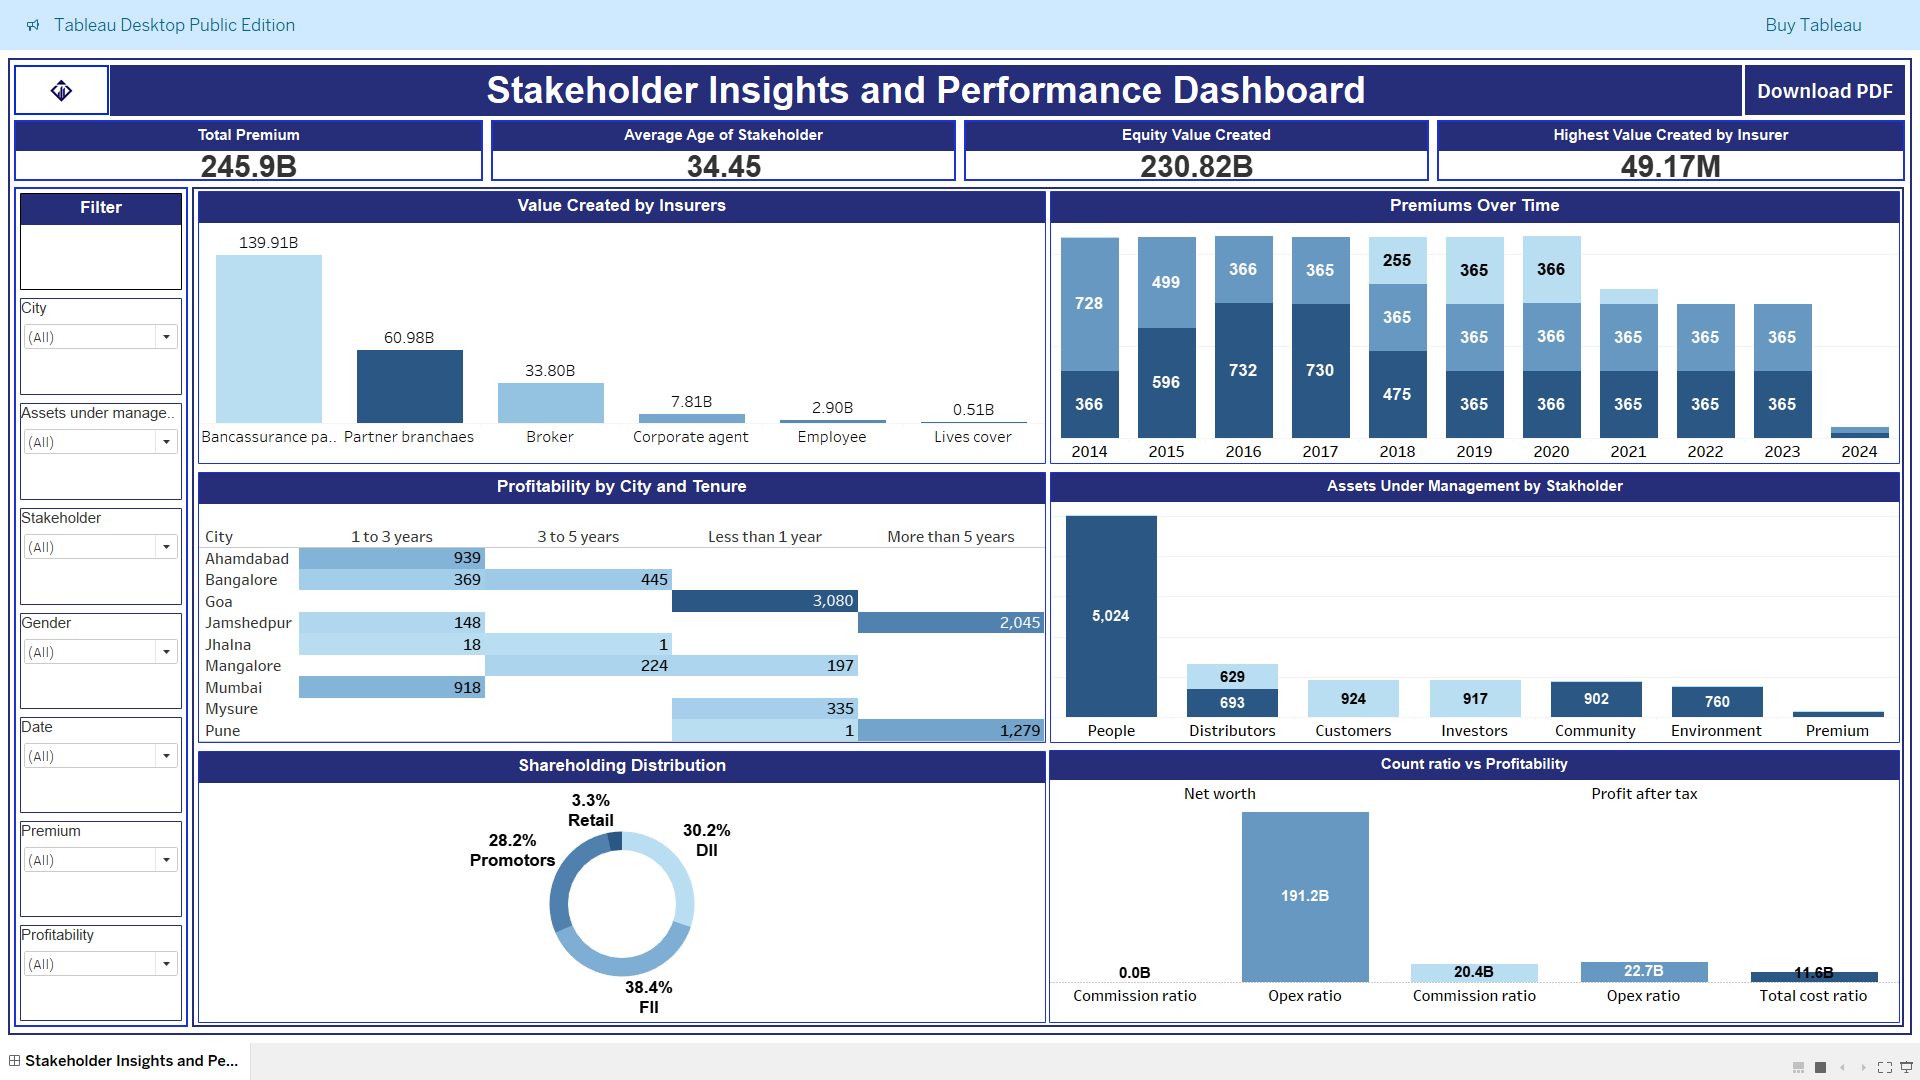

Layout of this report page (visuals, bound fields, positions):
{"tool":"tableau","page":{"name":"Stakeholder Insights and Performance Dashboard","canvas":[1000,1000],"units":"permille","ordinal":0},"visuals":[{"type":"image","param":"C:/Users/Dell/Downloads/WhatsApp Image 2025-06-24 at 23.31.29_39250a55.jpg","box":[8.4,17.5,57.9,64.9]},{"type":"text","box":[66.4,17.5,826.2,64.9]},{"type":"dashboard-object","box":[892.6,17.5,99,64.9]},{"type":"worksheet","title":"Total Premium","mark":"Automatic","box":[8.4,82.4,246.2,86.1]},{"type":"worksheet","title":"Average Age of Stakeholder","mark":"Automatic","box":[254.7,82.4,245.6,86.1]},{"type":"worksheet","title":"Equity Value Created","mark":"Automatic","box":[500.3,82.4,245.6,86.1]},{"type":"worksheet","title":"Highest Value Created by Insurer","mark":"Automatic","box":[745.9,82.4,245.6,86.1]},{"type":"worksheet","title":"Filters","mark":"Automatic","box":[9.7,173.5,102.6,101.1]},{"type":"worksheet","title":"Value Created by Insurers","mark":"Automatic","rows":["Value Created"],"cols":["Insurer"],"box":[118.3,176,435.1,263.4]},{"type":"worksheet","title":"Premiums Over Time","mark":"Bar","rows":["Premium 1"],"cols":["Date"],"box":[553.4,176,434.5,263.4]},{"type":"filter","title":"Filters","param":"[federated.0gvcv7g16l1nyy1d18fpl1i7io69].[none:City:nk]","box":[9.7,274.7,102.6,101.1]},{"type":"filter","title":"Filters","param":"[federated.0gvcv7g16l1nyy1d18fpl1i7io69].[none:Assets under management:nk]","box":[9.7,375.8,102.6,101.1]},{"type":"worksheet","title":"Profitability by City and Tenure","mark":"Square","rows":["City"],"cols":["Policy tenuer"],"box":[118.3,444.4,435.1,263.4]},{"type":"worksheet","title":"Assets Under Management by Stakholder","mark":"Automatic","rows":["Assets under management"],"cols":["Stakeholder"],"box":[553.4,444.4,434.5,263.4]},{"type":"filter","title":"Filters","param":"[federated.0gvcv7g16l1nyy1d18fpl1i7io69].[none:Stakeholder:nk]","box":[9.7,476.9,102.6,101.1]},{"type":"filter","title":"Filters","param":"[federated.0gvcv7g16l1nyy1d18fpl1i7io69].[none:Gender:nk]","box":[9.7,578,102.6,99.9]},{"type":"filter","title":"Filters","param":"[federated.0gvcv7g16l1nyy1d18fpl1i7io69].[my:Date:ok]","box":[9.7,677.9,102.6,99.9]},{"type":"worksheet","title":"Shareholding Distribution","mark":"Pie","rows":["Calculation_1584422666179768320","Calculation_1584422666179768320"],"box":[118.3,712.9,435.1,262.2]},{"type":"worksheet","title":"Count ratio vs Profitability","mark":"Automatic","rows":["Value Created"],"cols":["Profitability","Cost ratio"],"box":[553.4,712.9,434.5,262.2]},{"type":"filter","title":"Filters","param":"[federated.0gvcv7g16l1nyy1d18fpl1i7io69].[none:Premium 1:nk]","box":[9.7,777.8,102.6,99.9]},{"type":"filter","title":"Filters","param":"[federated.0gvcv7g16l1nyy1d18fpl1i7io69].[none:Profitability:nk]","box":[9.7,877.6,102.6,99.9]}]}

Visuals, with their boxes on the dashboard's canvas, which has no fixed pixel size, in thousandths of its width and height (x1, y1, x2, y2). These are canvas units, not pixel positions in the 1920x1080 screenshot, which may show the page scaled, cropped or inside an application window:
image: x1=8, y1=18, x2=66, y2=82
text: x1=66, y1=18, x2=893, y2=82
dashboard-object: x1=893, y1=18, x2=992, y2=82
"Total Premium" worksheet: x1=8, y1=82, x2=255, y2=168
"Average Age of Stakeholder" worksheet: x1=255, y1=82, x2=500, y2=168
"Equity Value Created" worksheet: x1=500, y1=82, x2=746, y2=168
"Highest Value Created by Insurer" worksheet: x1=746, y1=82, x2=992, y2=168
"Filters" worksheet: x1=10, y1=174, x2=112, y2=275
"Value Created by Insurers" worksheet: x1=118, y1=176, x2=553, y2=439
"Premiums Over Time" worksheet (Bar marks): x1=553, y1=176, x2=988, y2=439
"Filters" filter: x1=10, y1=275, x2=112, y2=376
"Filters" filter: x1=10, y1=376, x2=112, y2=477
"Profitability by City and Tenure" worksheet (Square marks): x1=118, y1=444, x2=553, y2=708
"Assets Under Management by Stakholder" worksheet: x1=553, y1=444, x2=988, y2=708
"Filters" filter: x1=10, y1=477, x2=112, y2=578
"Filters" filter: x1=10, y1=578, x2=112, y2=678
"Filters" filter: x1=10, y1=678, x2=112, y2=778
"Shareholding Distribution" worksheet (Pie marks): x1=118, y1=713, x2=553, y2=975
"Count ratio vs Profitability" worksheet: x1=553, y1=713, x2=988, y2=975
"Filters" filter: x1=10, y1=778, x2=112, y2=878
"Filters" filter: x1=10, y1=878, x2=112, y2=978
